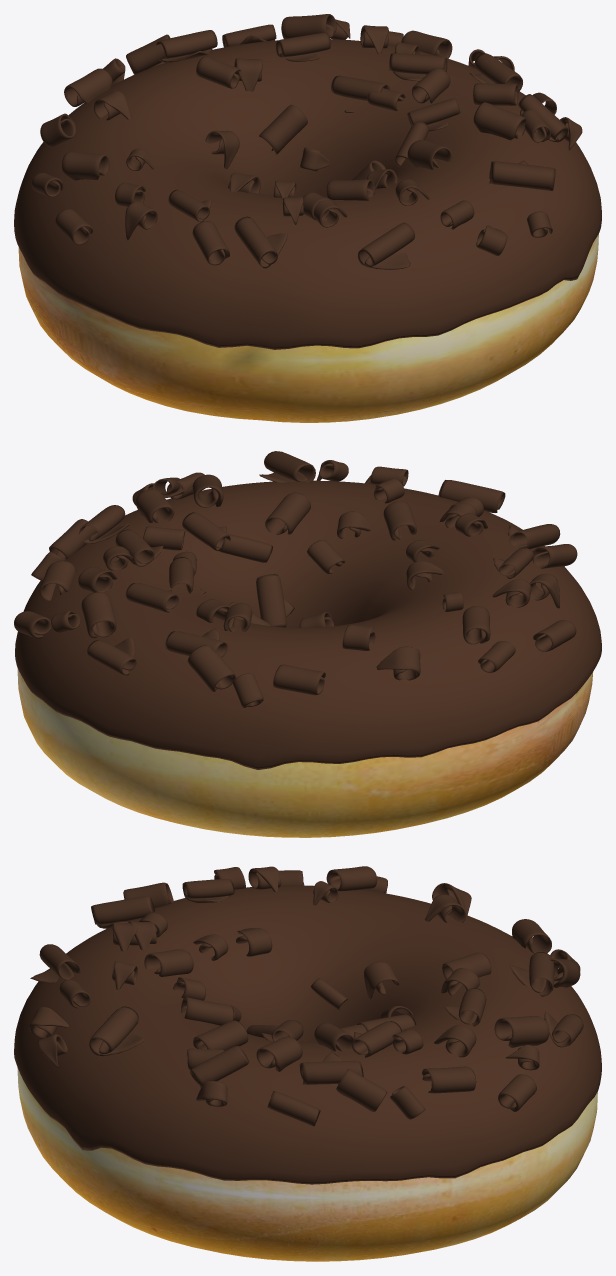
File: dark chocolate curls.glb
The picture shows the model from 3 angles, top to bottom: view 1: azimuth 30°, elevation 25°; view 2: azimuth 150°, elevation 25°; view 3: azimuth 270°, elevation 25°; orthographic projection. The views are drawn at different scales.
Parts seen in each view (by area): view 1: dark, choco & straw curls, Torus; view 2: dark, choco & straw curls, Torus; view 3: dark, choco & straw curls, Torus.
Boxes of the visible parts, left/top/right/bottom form: dark: left=14, top=39, right=601, bottom=349; choco & straw curls: left=31, top=14, right=582, bottom=269; Torus: left=18, top=234, right=598, bottom=422; dark: left=15, top=480, right=601, bottom=769; choco & straw curls: left=14, top=451, right=577, bottom=707; Torus: left=17, top=668, right=592, bottom=837; dark: left=14, top=885, right=601, bottom=1184; choco & straw curls: left=29, top=866, right=583, bottom=1126; Torus: left=17, top=1067, right=597, bottom=1261.
Bounding box in the file's own units: 0.1988 × 0.0804 × 0.1971.
3 materials, 1 textured.
